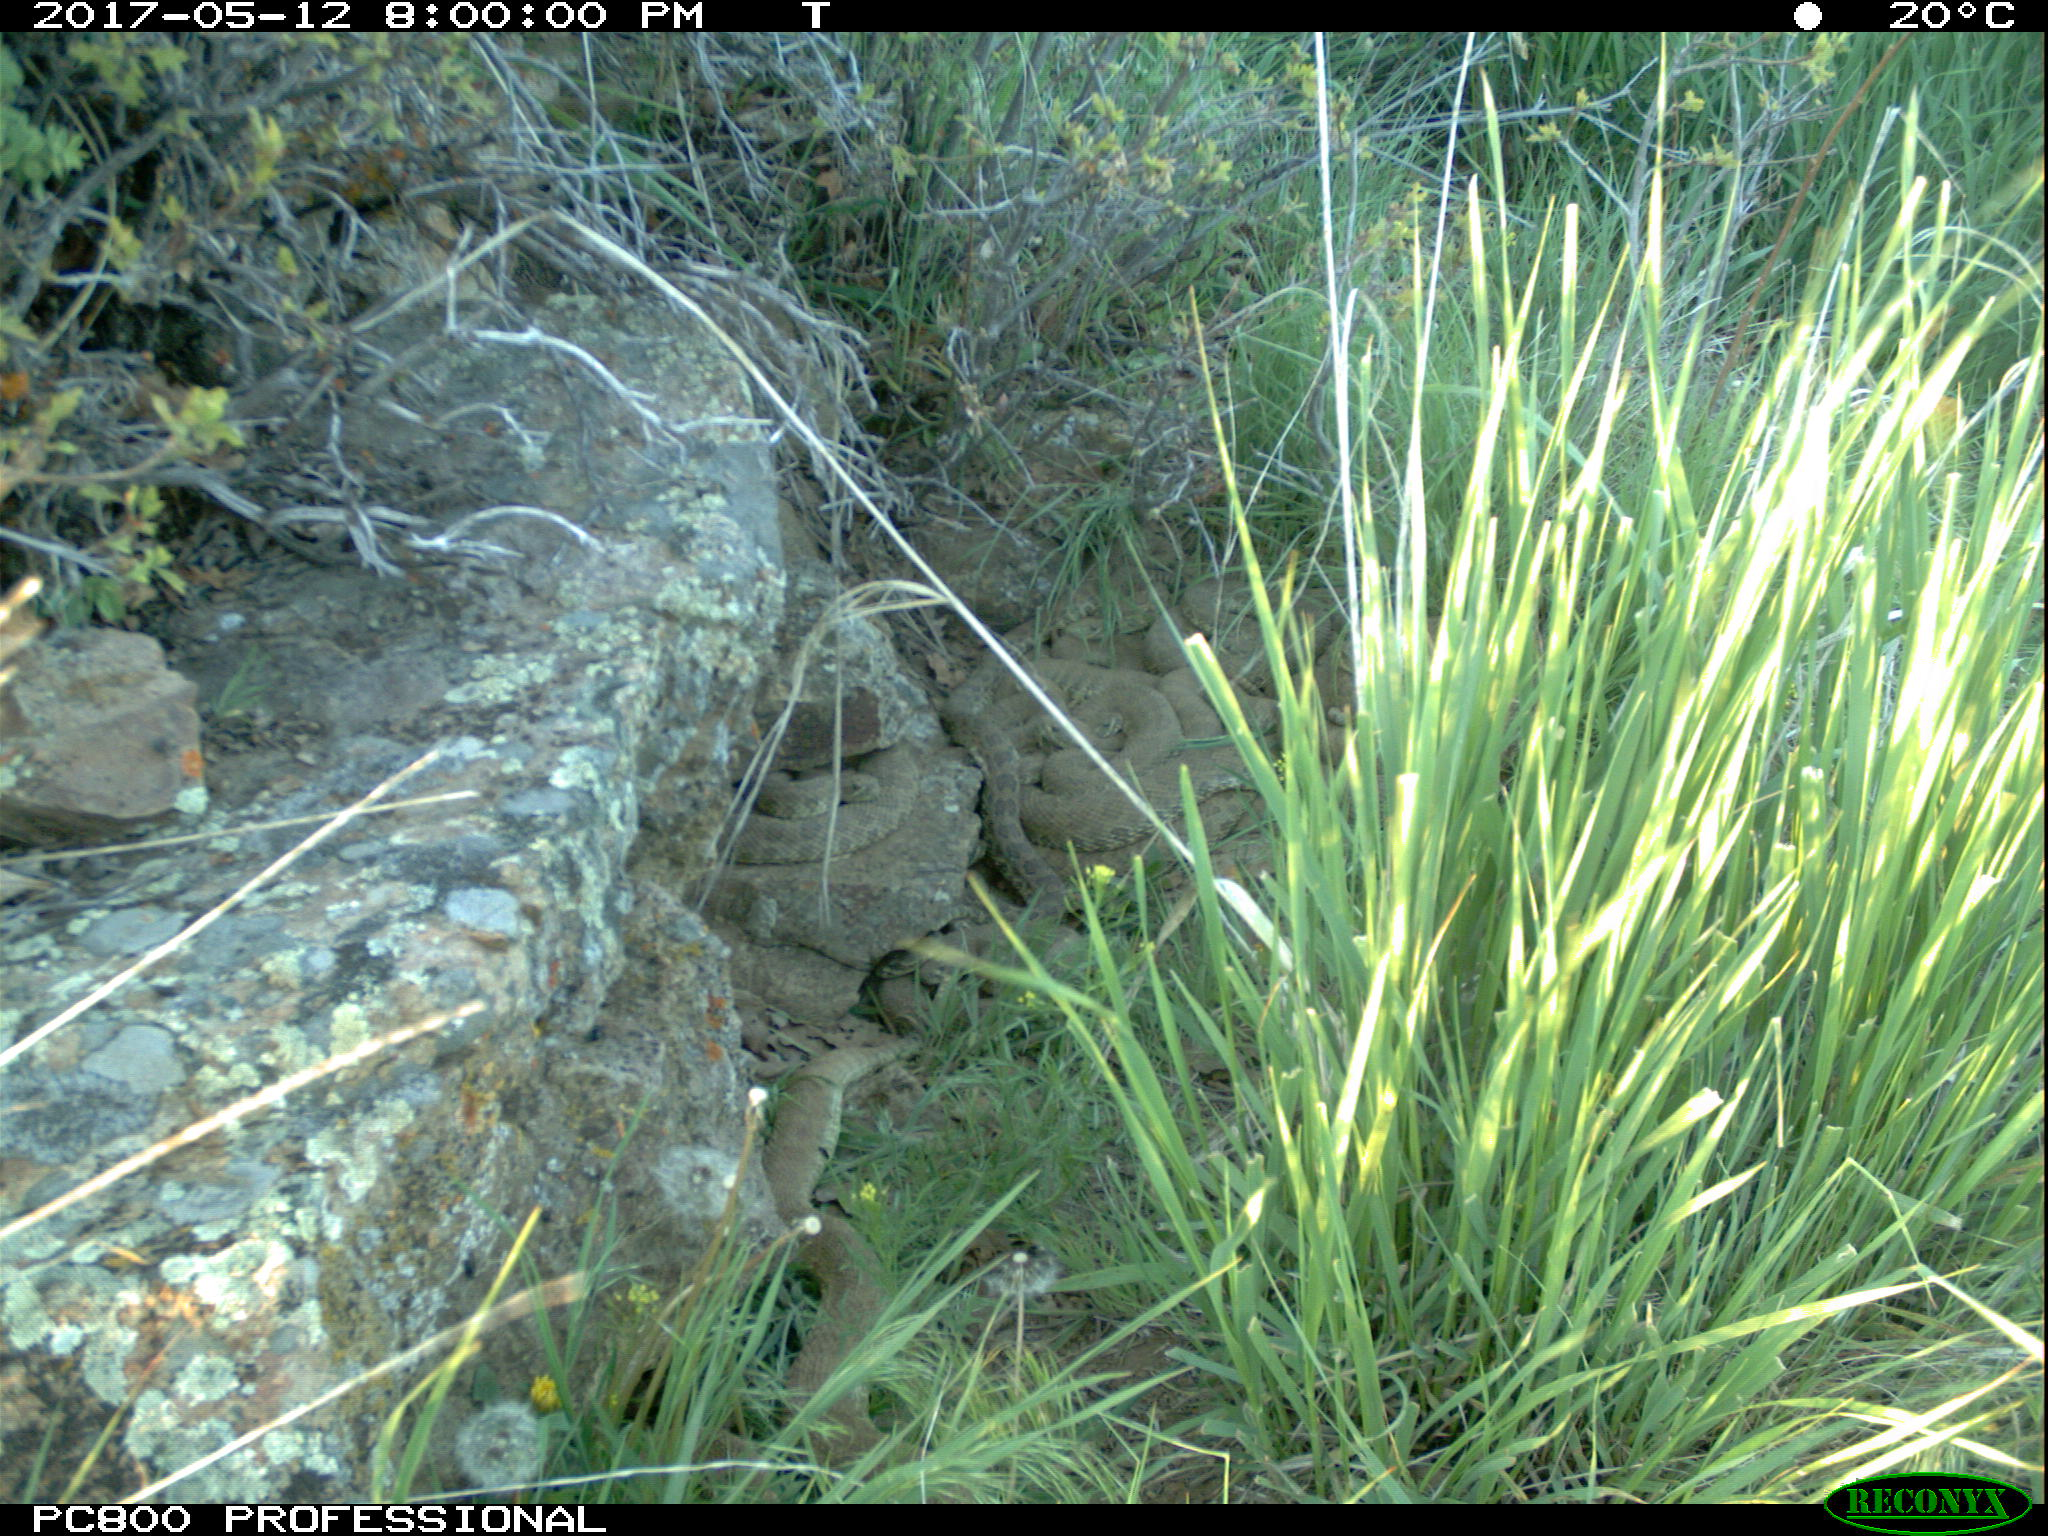snake: (769, 1034, 942, 1483), (948, 653, 1221, 842), (942, 703, 1072, 926), (1148, 666, 1268, 863), (1109, 582, 1322, 668), (734, 768, 910, 857)
